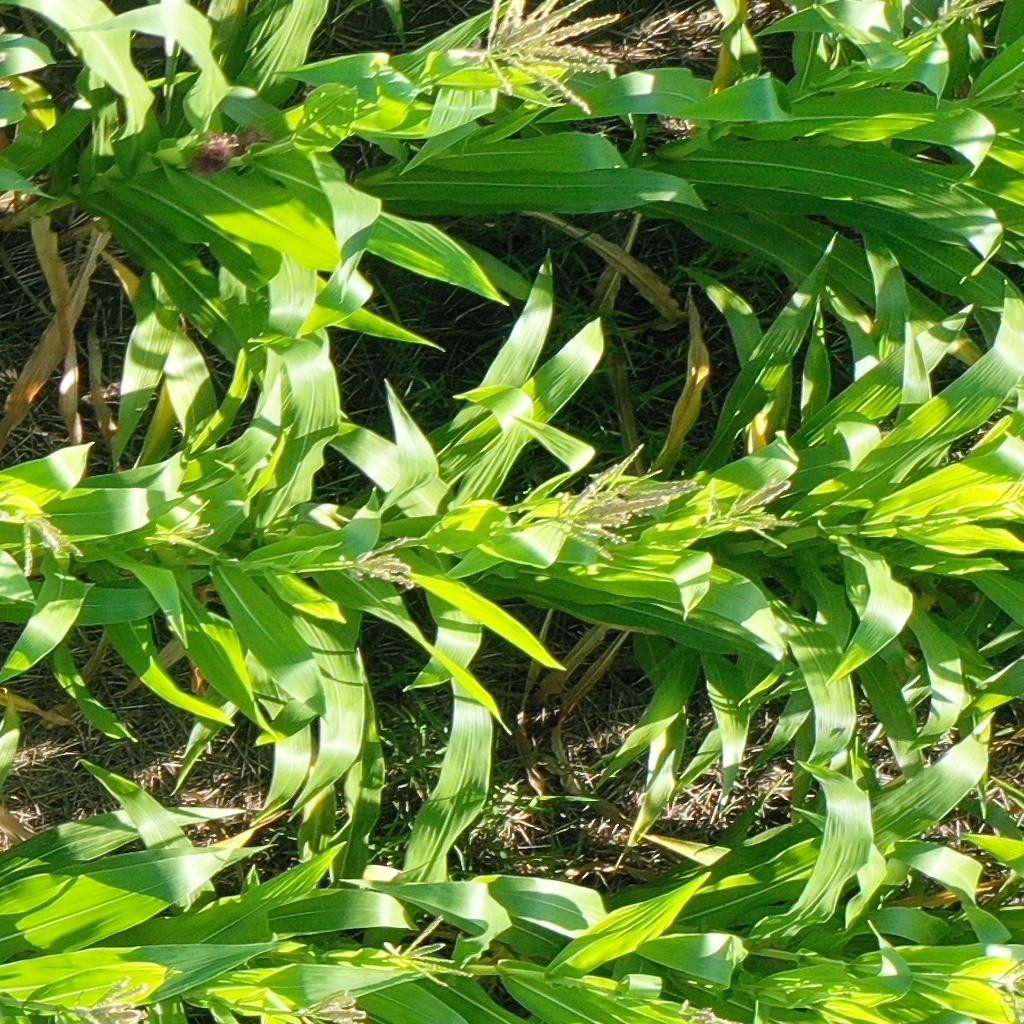Tassel: (546, 438, 704, 575), (448, 1, 627, 117), (384, 911, 479, 988), (708, 477, 798, 550), (343, 528, 443, 591), (143, 495, 228, 560), (14, 505, 81, 579), (73, 973, 152, 1024), (292, 985, 370, 1024), (988, 955, 1024, 1013), (677, 1001, 749, 1024), (941, 1, 1005, 23)
